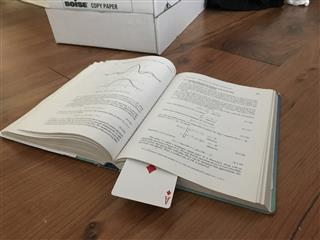AceOfDiamonds: (110, 158, 178, 208)
